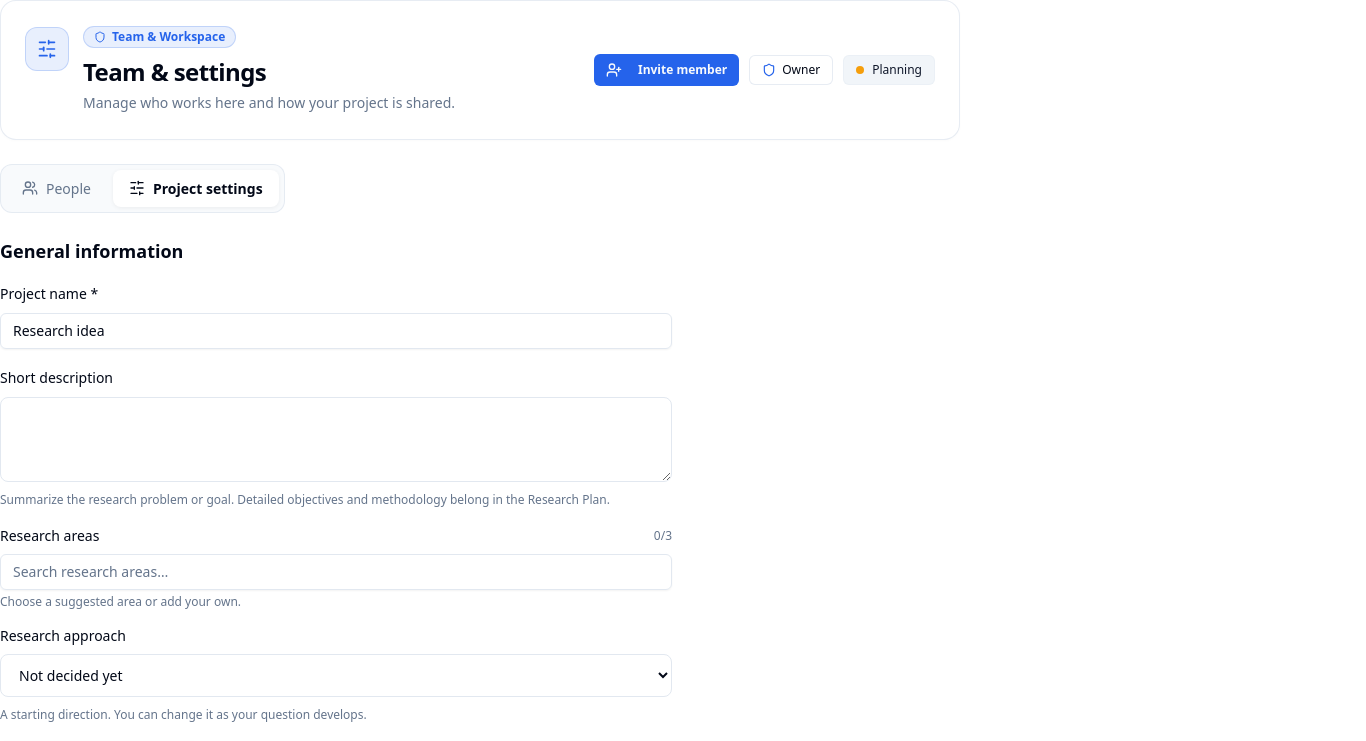
Test: exposes the invitation action at the top of /projects/project?tab=members&team=settings even when the team request fails
Click the button "Invite member" at (667, 70), box left=594, top=54, right=739, bottom=86
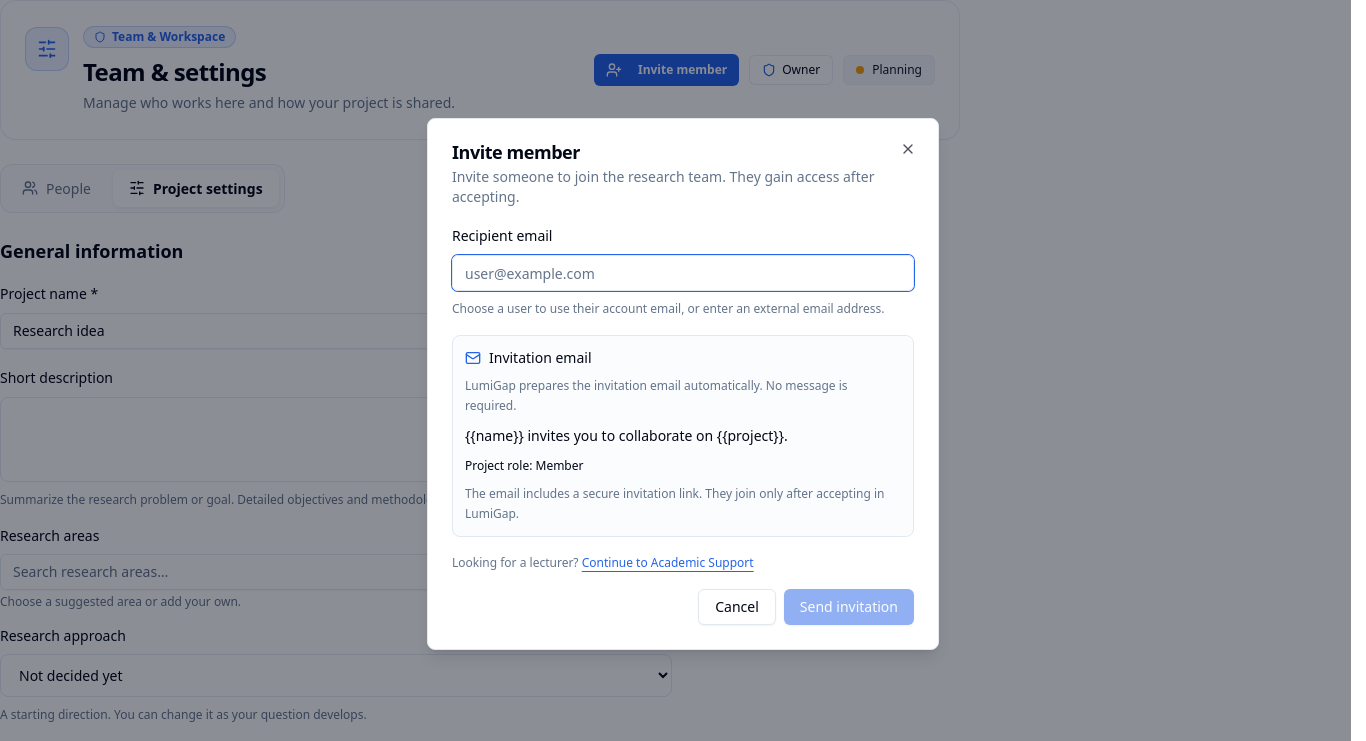
Expected: the dialog shows "Recipient email", left=452, top=226, right=552, bottom=245
